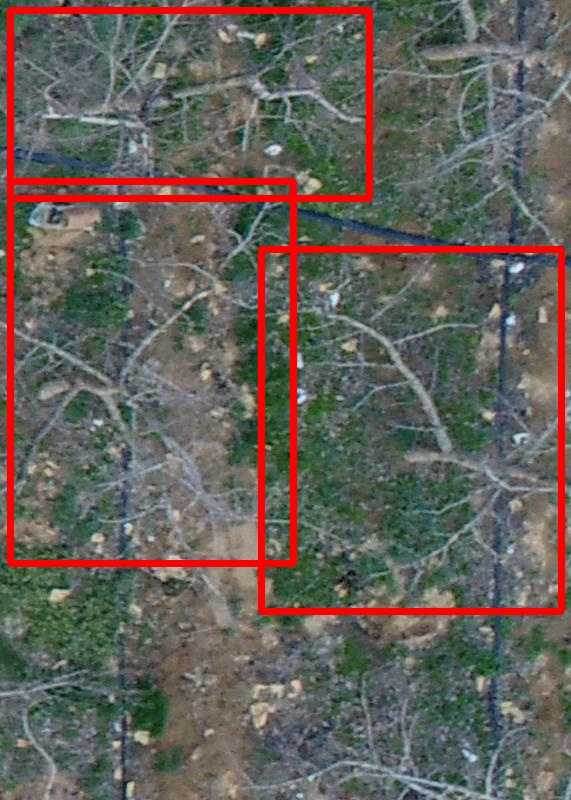apple: (261, 249, 561, 611), (10, 181, 293, 563), (10, 10, 369, 198)
